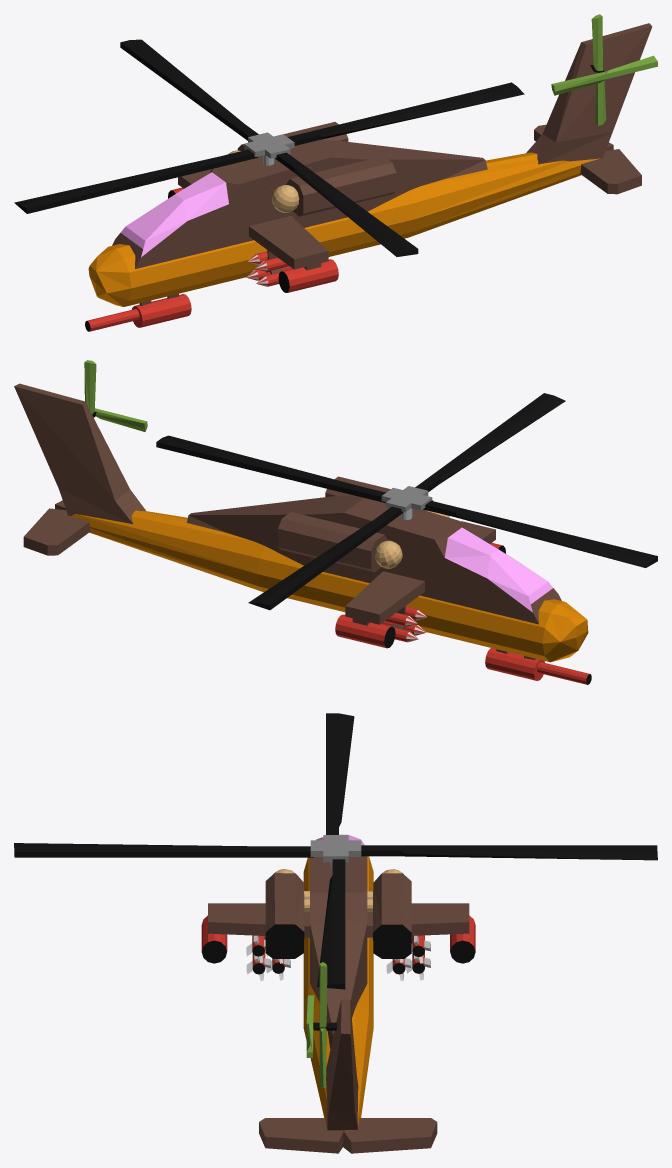
The picture shows the model from 3 angles, top to bottom: view 1: azimuth 30°, elevation 25°; view 2: azimuth 150°, elevation 25°; view 3: azimuth 270°, elevation 25°; orthographic projection. The views are drawn at different scales.
Visible parts, largest first — view 1: node_MeshObject-1905862912-PolyPaper20, node_MeshObject-1387142848-PolyGem25; view 2: node_MeshObject-1905862912-PolyPaper20, node_MeshObject-1387142848-PolyGem25; view 3: node_MeshObject-1905862912-PolyPaper20.
Boxes of the visible parts, bbox=[...] form: node_MeshObject-1905862912-PolyPaper20: bbox=[14, 14, 657, 331]; node_MeshObject-1387142848-PolyGem25: bbox=[120, 172, 228, 257]; node_MeshObject-1905862912-PolyPaper20: bbox=[14, 360, 657, 684]; node_MeshObject-1387142848-PolyGem25: bbox=[444, 527, 552, 612]; node_MeshObject-1905862912-PolyPaper20: bbox=[14, 713, 657, 1153].
Bounding box in the file's own units: 1.29 × 0.3963 × 1.01.
